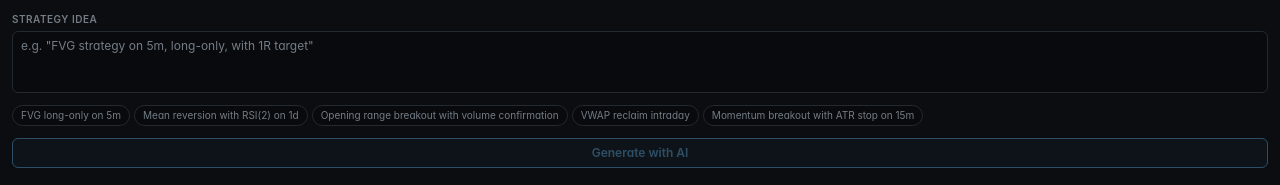
Test: <AIPromptTab /> › Generate button is enabled when prompt is 8+ characters
In the text box named "strategy idea prompt": {"x": 640, "y": 62} [12,31,1268,93], type "FVG strategy on 5m"
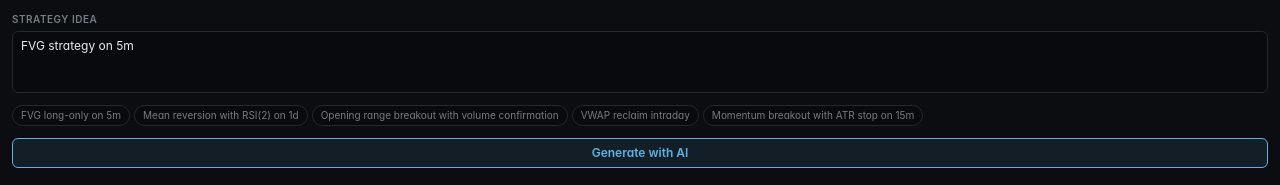
Result: the button with test id "ai-generate-btn" is enabled at [12,138,1268,168]
